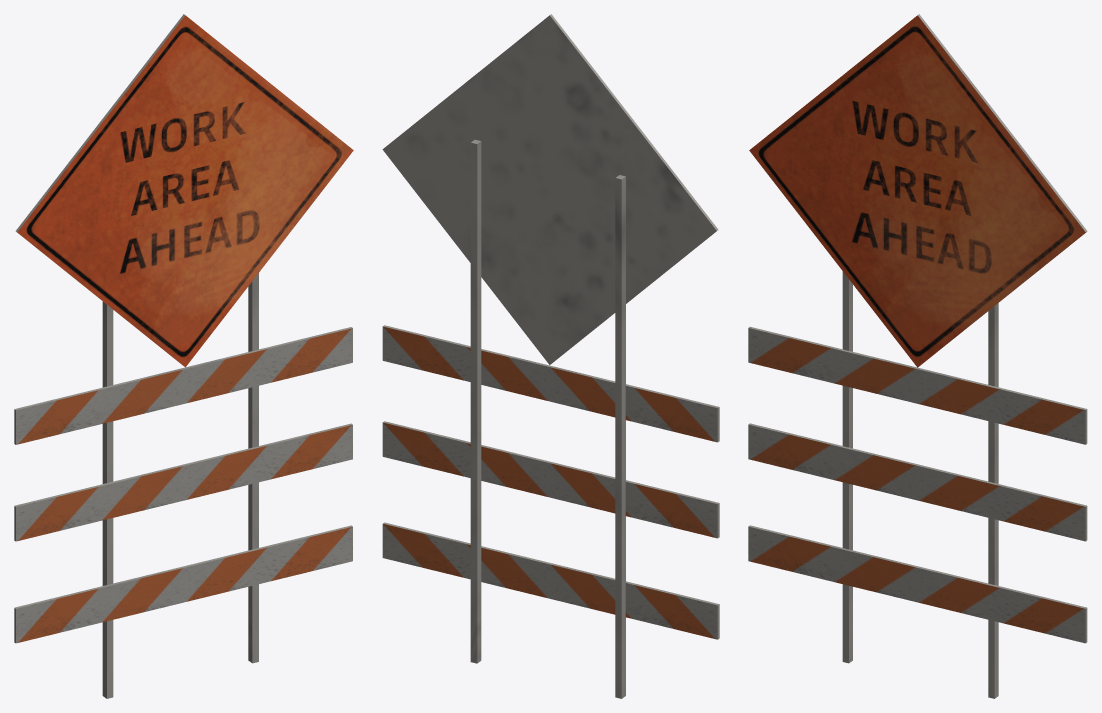
The model's file is sb_signage_WorkAreaAhead.fbx.
3 views of the same model, side by side, from view 1: azimuth 30°, elevation 25°; view 2: azimuth 150°, elevation 25°; view 3: azimuth 330°, elevation 25° (orthographic).
Visible parts, largest first — view 1: RoadWorkSign01; view 2: RoadWorkSign01; view 3: RoadWorkSign01.
Part boxes in pixels (left/top/right/bottom): RoadWorkSign01: left=14, top=14, right=353, bottom=698; RoadWorkSign01: left=382, top=14, right=719, bottom=698; RoadWorkSign01: left=748, top=14, right=1087, bottom=698.
Bounding box in the file's own units: 1.7 × 3.21 × 0.0521.
Materials: 1 (1 with a texture image).
